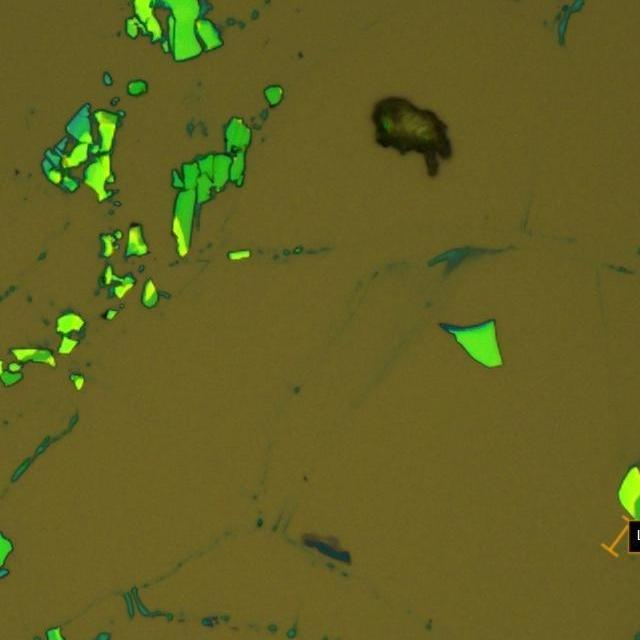monolayer-eWW4: (303, 530, 340, 551)
